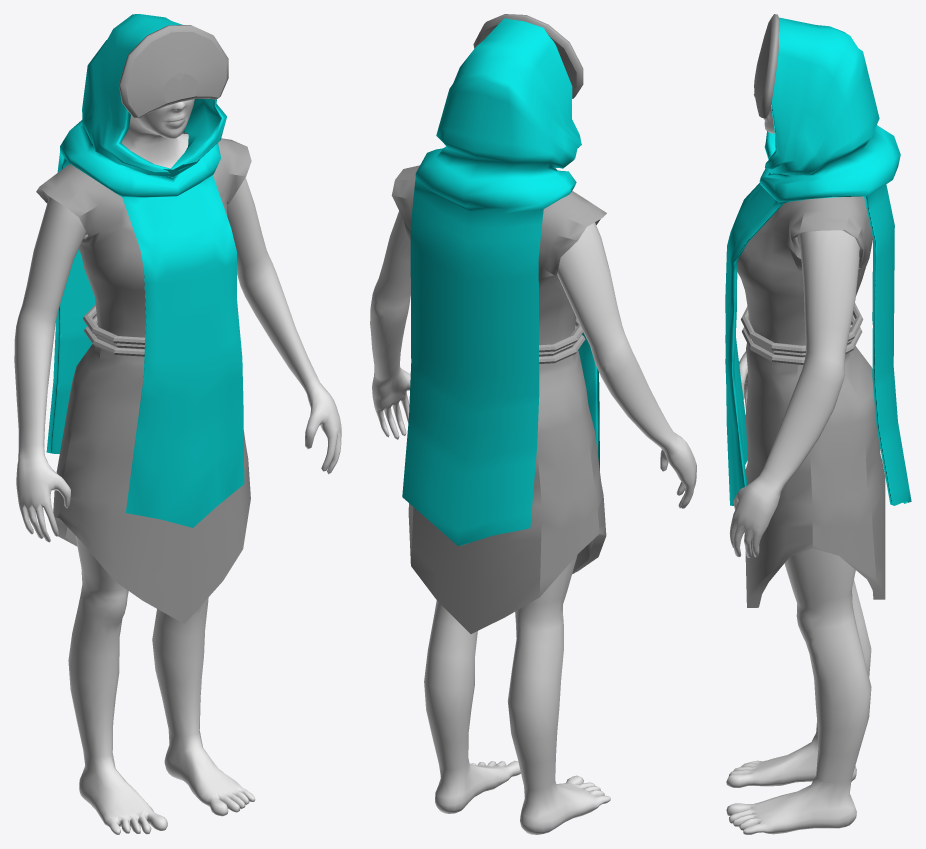
File: rp_character_cultistfemale.fbx
The picture shows the model from 3 angles, left to right: view 1: azimuth 30°, elevation 25°; view 2: azimuth 150°, elevation 25°; view 3: azimuth 270°, elevation 25°; orthographic projection.
Visible parts, largest first — view 1: polySurface3, polySurface1, polySurface6, polySurface5; view 2: polySurface3, polySurface1, polySurface6, polySurface5; view 3: polySurface1, polySurface6, polySurface3, polySurface5.
Part boxes in pixels (x1,y1,x2,y2): polySurface3: [46, 14, 244, 527]; polySurface1: [14, 99, 341, 834]; polySurface6: [36, 132, 251, 623]; polySurface5: [118, 25, 228, 118]; polySurface3: [402, 18, 599, 545]; polySurface1: [370, 211, 696, 834]; polySurface6: [391, 165, 606, 633]; polySurface5: [473, 14, 583, 98]; polySurface1: [726, 94, 871, 834]; polySurface6: [737, 196, 885, 607]; polySurface3: [725, 17, 911, 505]; polySurface5: [754, 14, 779, 118].
Size of the model in its own units: 1.14 by 2.67 by 0.5756.
